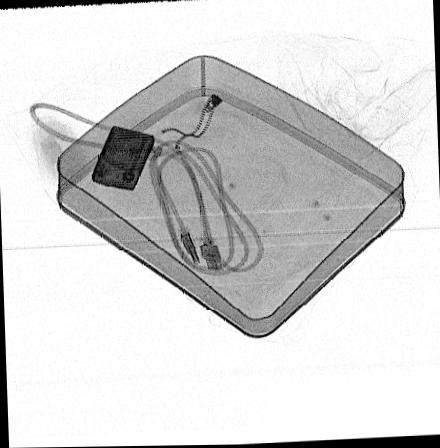Lighter: (89, 125, 154, 190)
